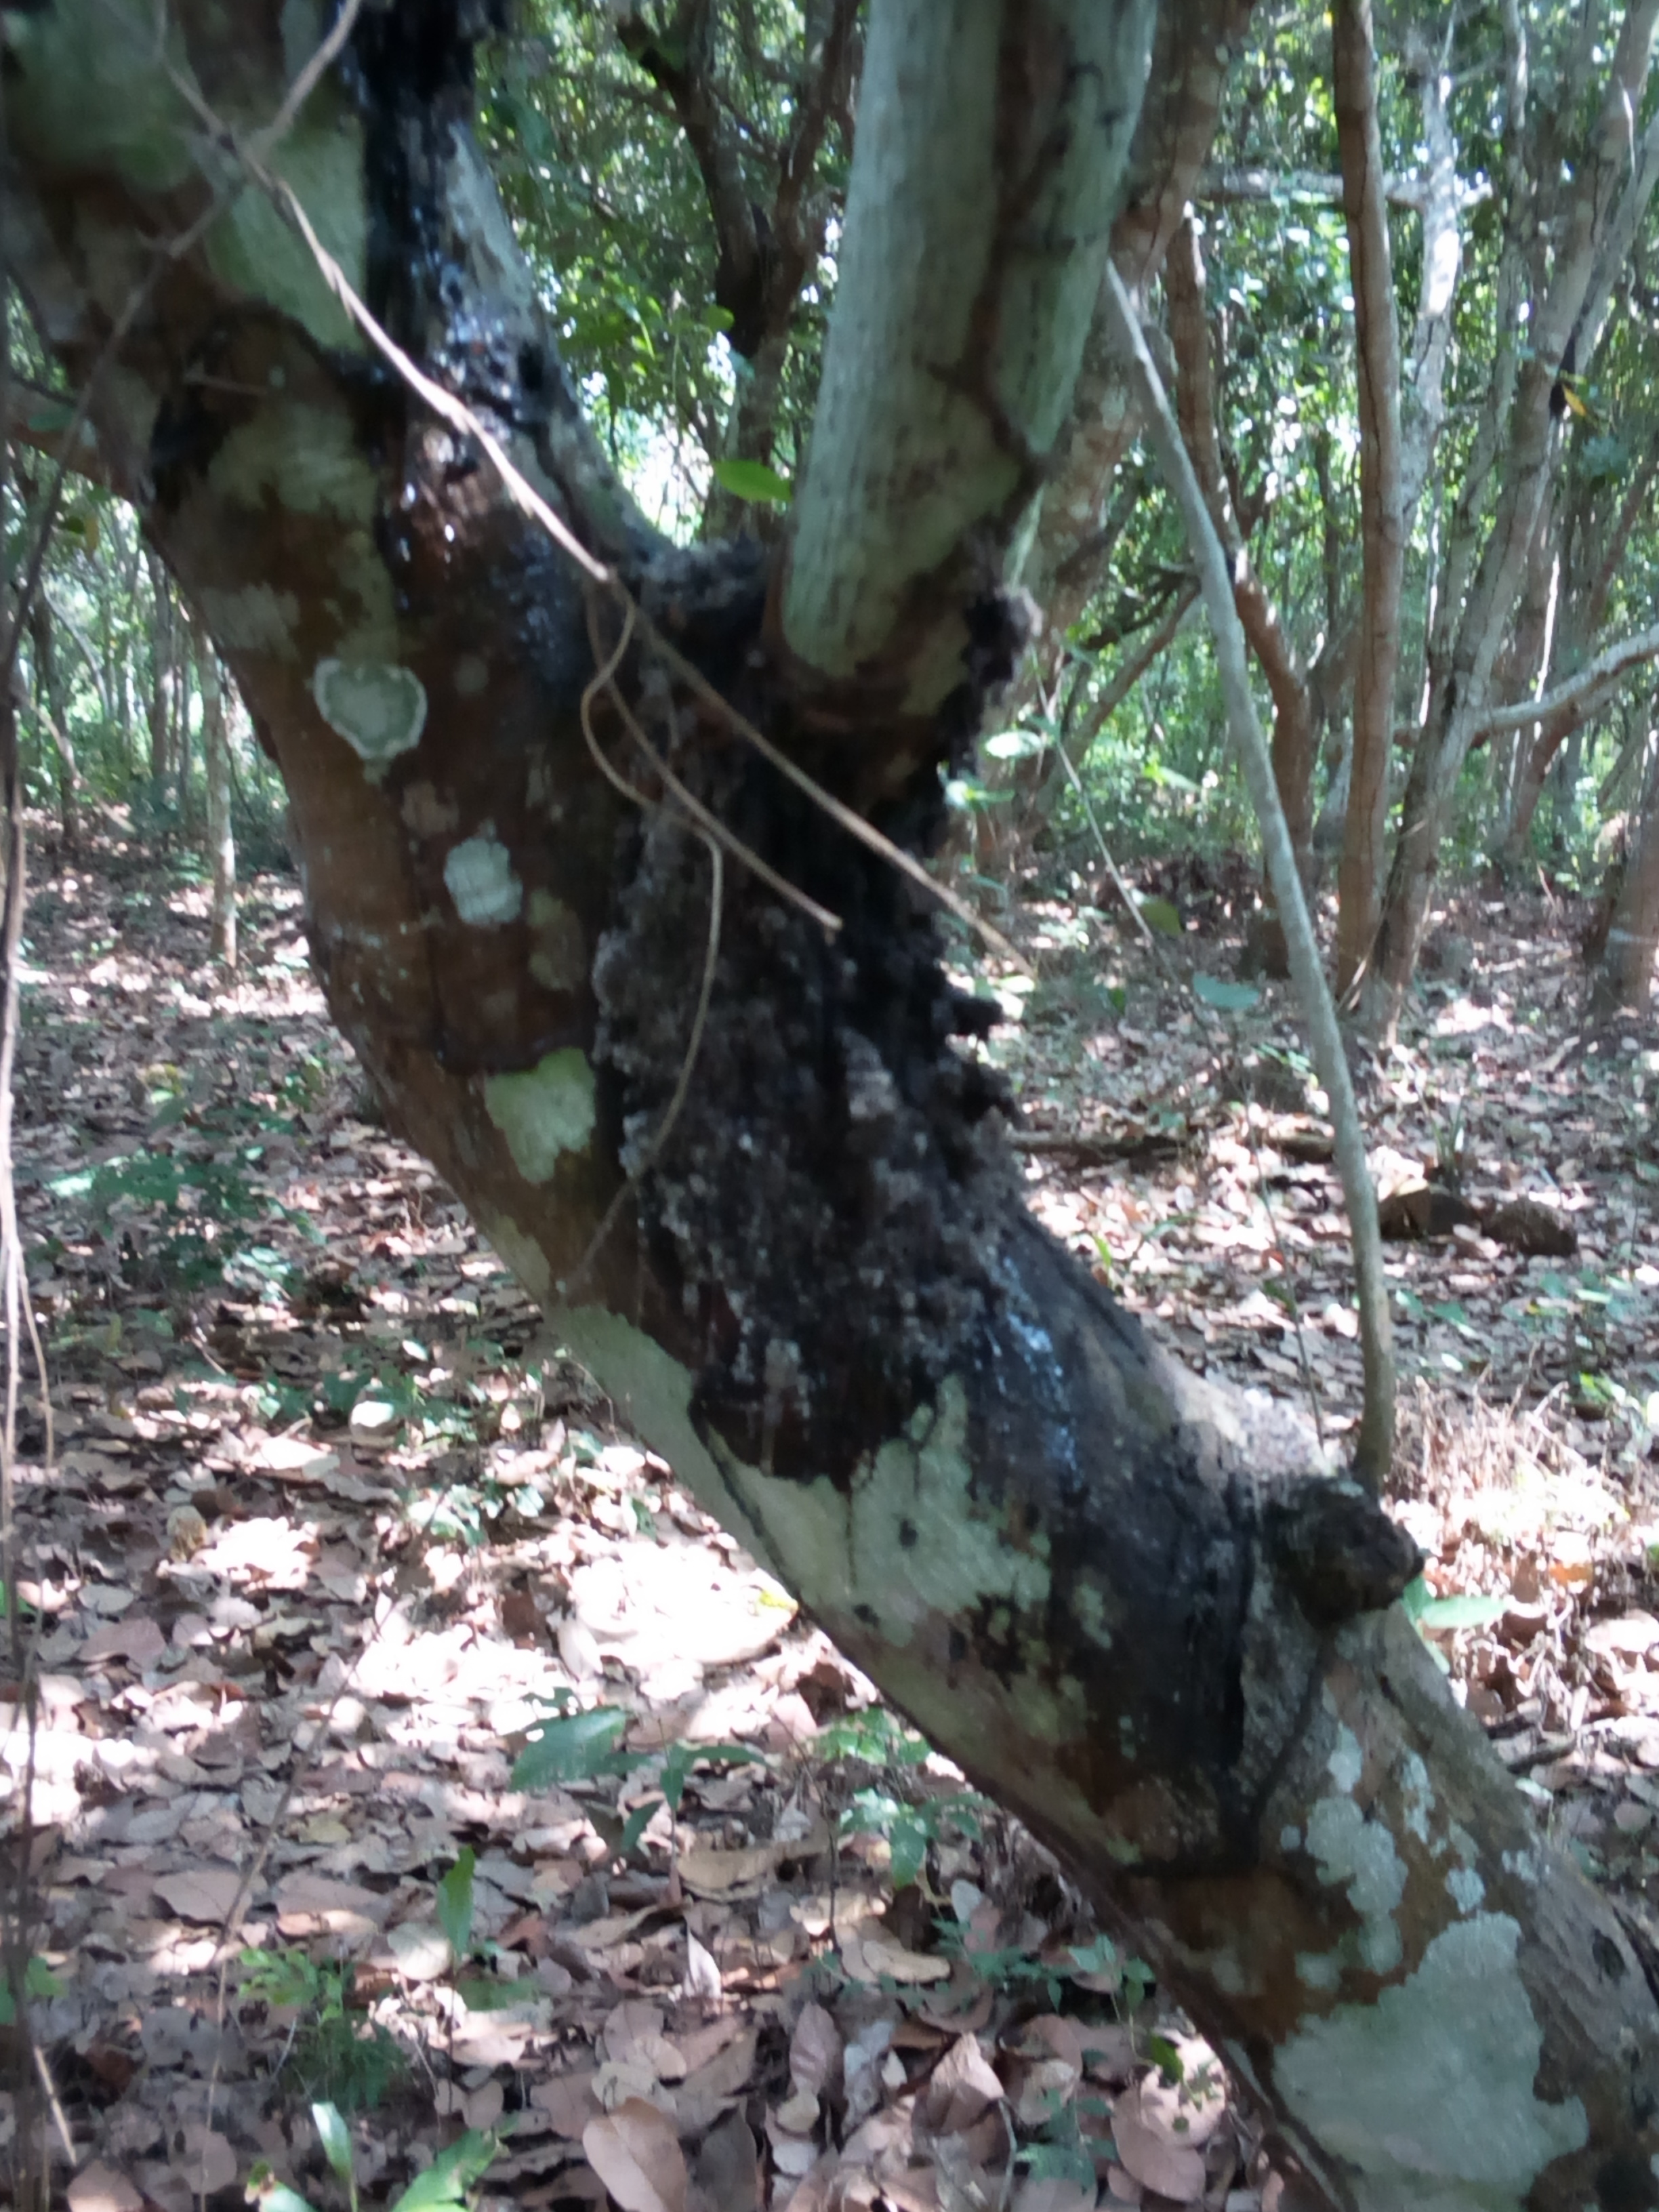Gommose: (630, 804, 1053, 1414)
